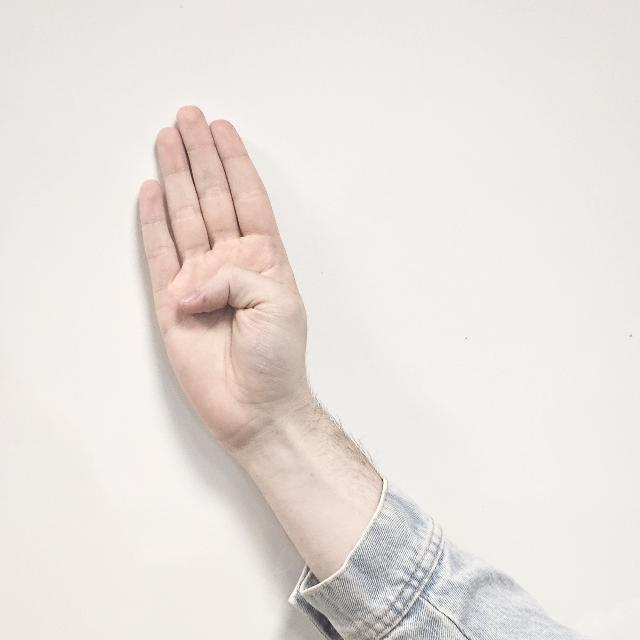Baixo: (117, 94, 333, 452)
